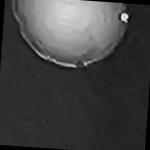colony: (2, 0, 134, 76)
